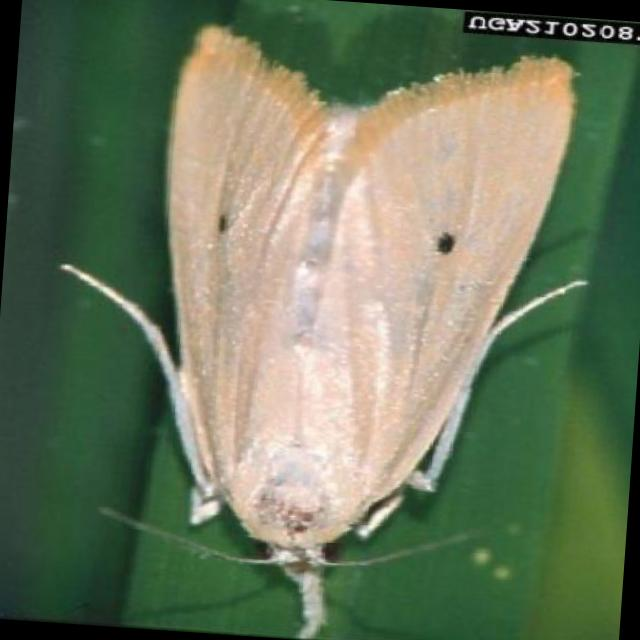stem-borer: (92, 13, 588, 640)
